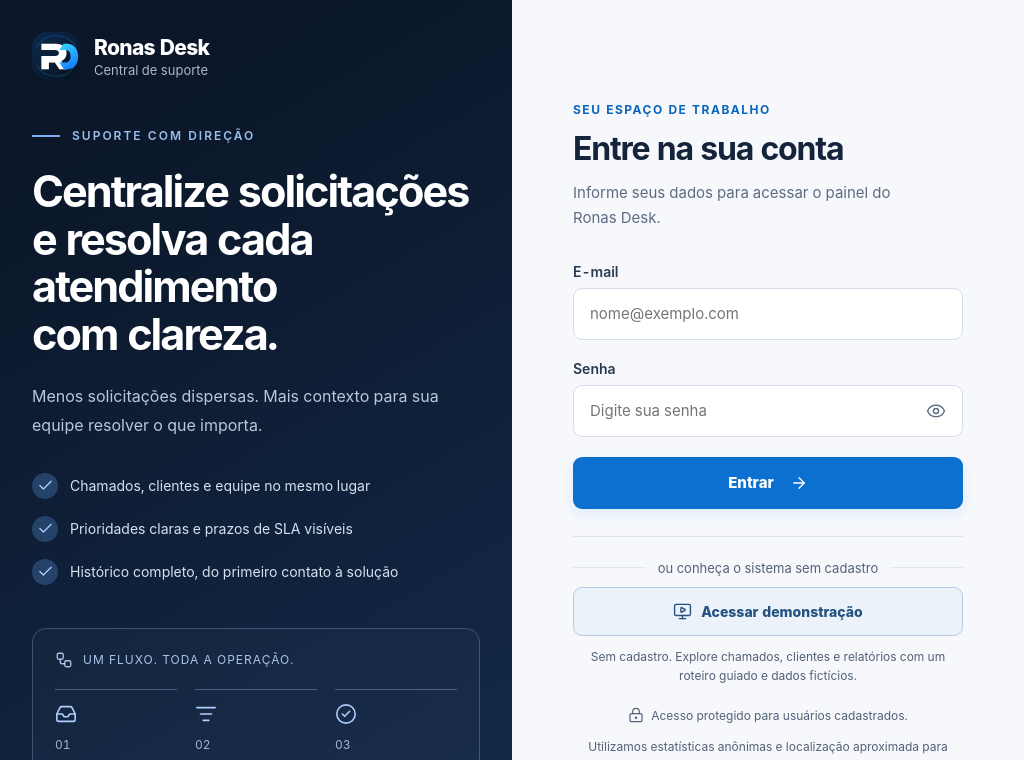
Test case: Login › limpa a mensagem de erro assim que o usuário volta a digitar
This screenshot has width=1024, height=760.
Click the button "Entrar": (768, 483) [573, 457, 963, 509]
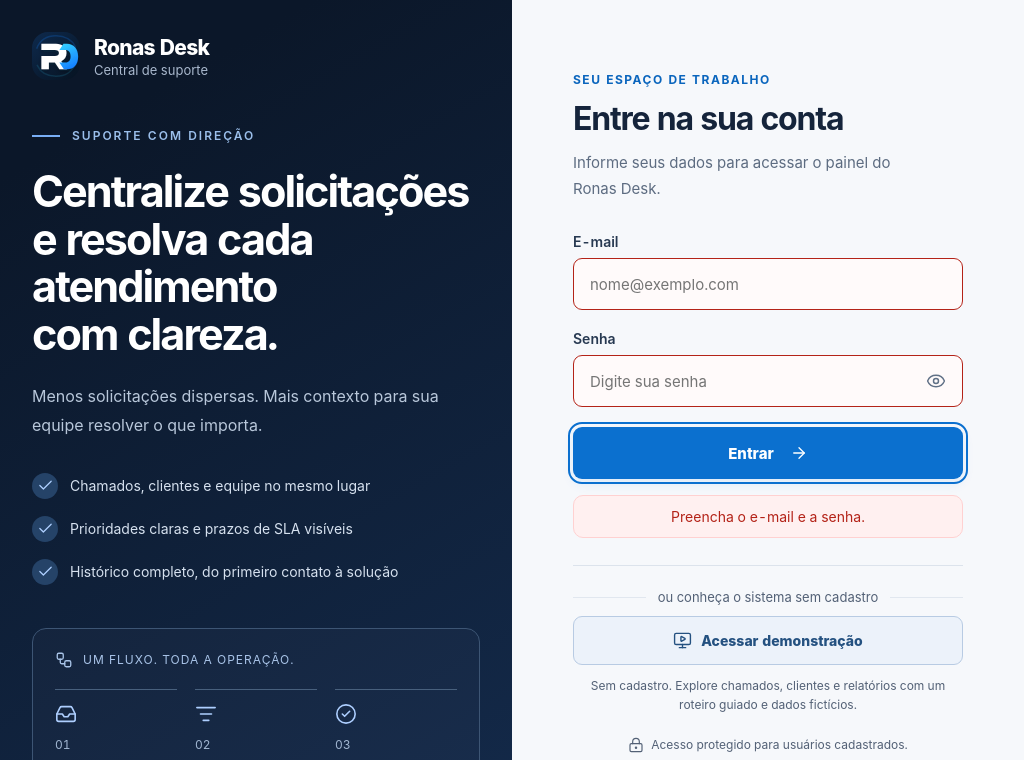
Expected: the message "Preencha o e-mail e a senha." is shown, [573, 495, 963, 538]
In the field labelled "E-mail": (768, 284) [573, 258, 963, 310], type "r"
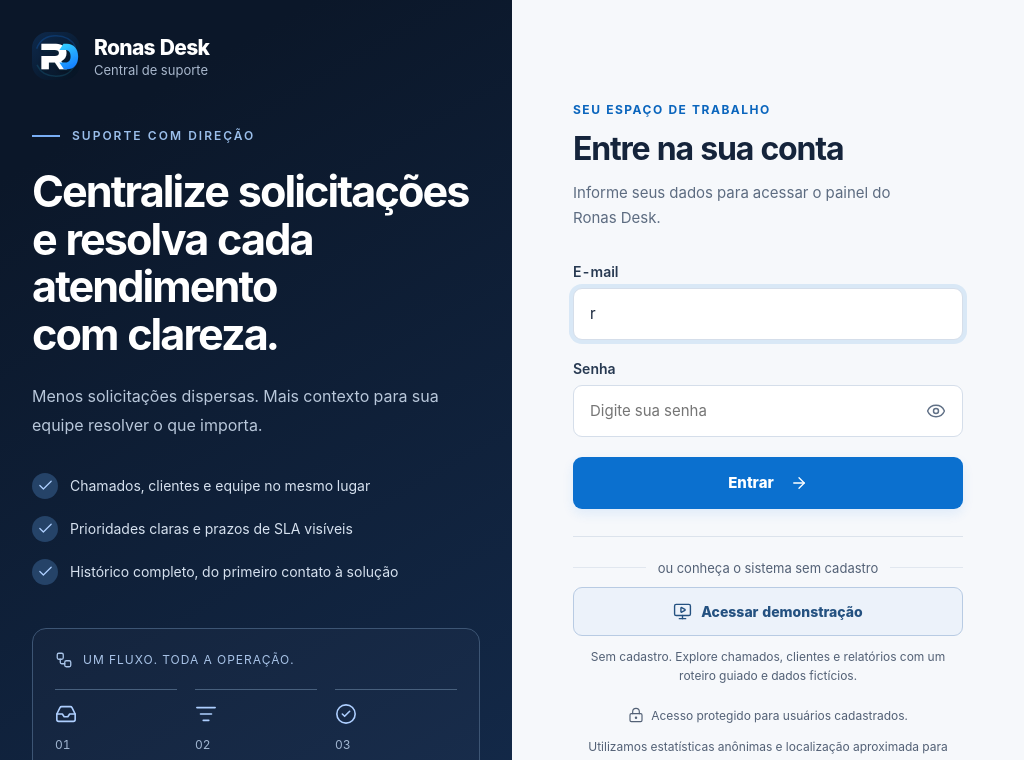
Expected: the message "Preencha o e-mail e a senha." is gone
